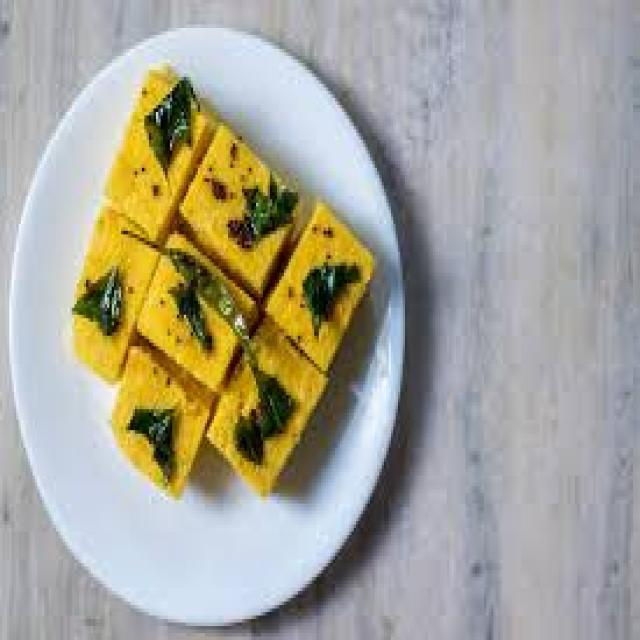DHOKLA: (173, 126, 302, 301), (100, 70, 222, 252), (138, 233, 259, 405), (210, 331, 326, 488), (265, 212, 370, 370), (68, 209, 153, 388), (115, 347, 210, 491)
